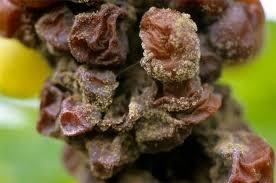Grape Rotten: (1, 0, 272, 181), (138, 6, 201, 83)
